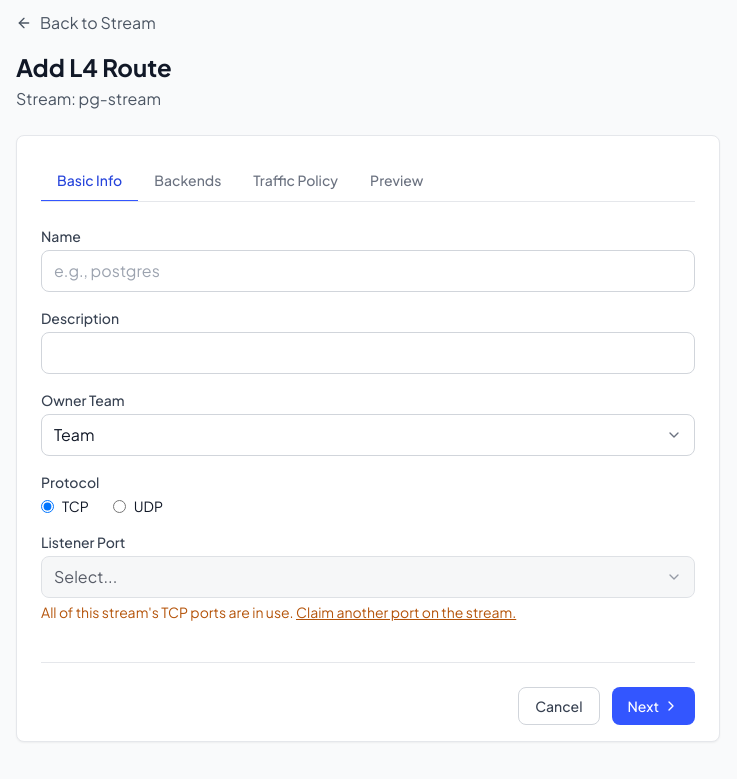
it: no free claim on the protocol › links to the stream for users who can manage it, and blocks Next
Check: the text "All of this stream's TCP ports are in use." is shown, box top-left (41, 603), bottom-right (296, 621)
Check: the element with test id "no-free-ports" reads "All of this stream's TCP ports are in use. Claim another port on the stream.", box top-left (41, 603), bottom-right (516, 621)
In the field labelled "Name": (368, 271) top-left (41, 250), bottom-right (695, 292), type "web"
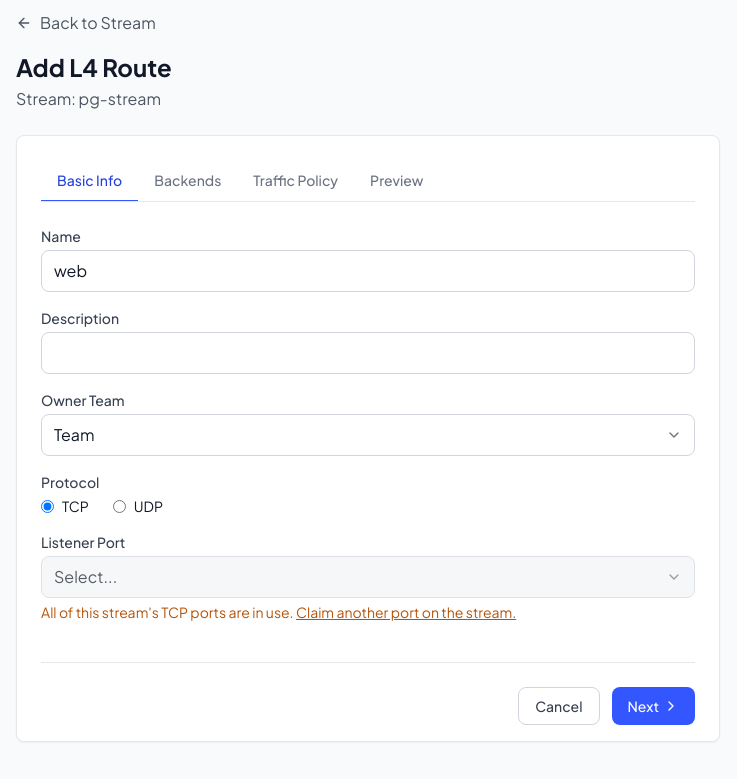
Click the button "Next": (653, 706) top-left (612, 687), bottom-right (695, 725)
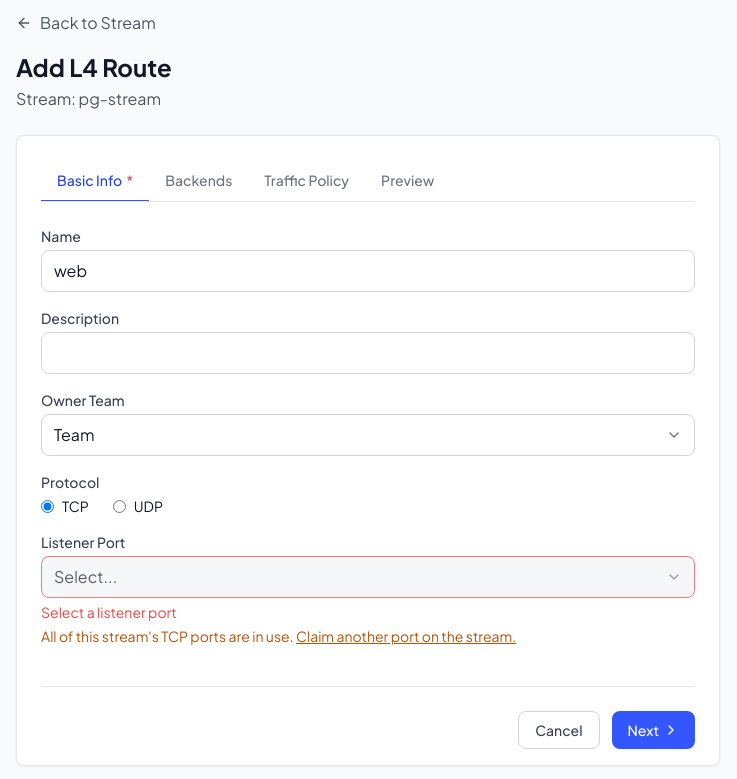
Check: the dropdown labelled "Listener Port" is shown, box top-left (41, 556), bottom-right (695, 598)
Check: the text "*" is shown, box top-left (126, 170), bottom-right (133, 190)
